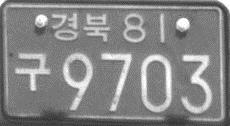0: (140, 52, 174, 116)
1: (156, 11, 168, 46)
3: (179, 52, 213, 115)
7: (99, 51, 133, 113)
8: (122, 11, 146, 43)
9: (61, 50, 94, 112)
경북_O: (49, 11, 110, 42)
구: (11, 50, 52, 93)
